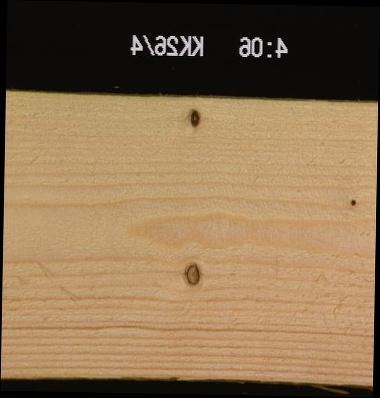dry_knot: (184, 260, 201, 286), (188, 106, 201, 127)
small_knot: (348, 195, 358, 206)
